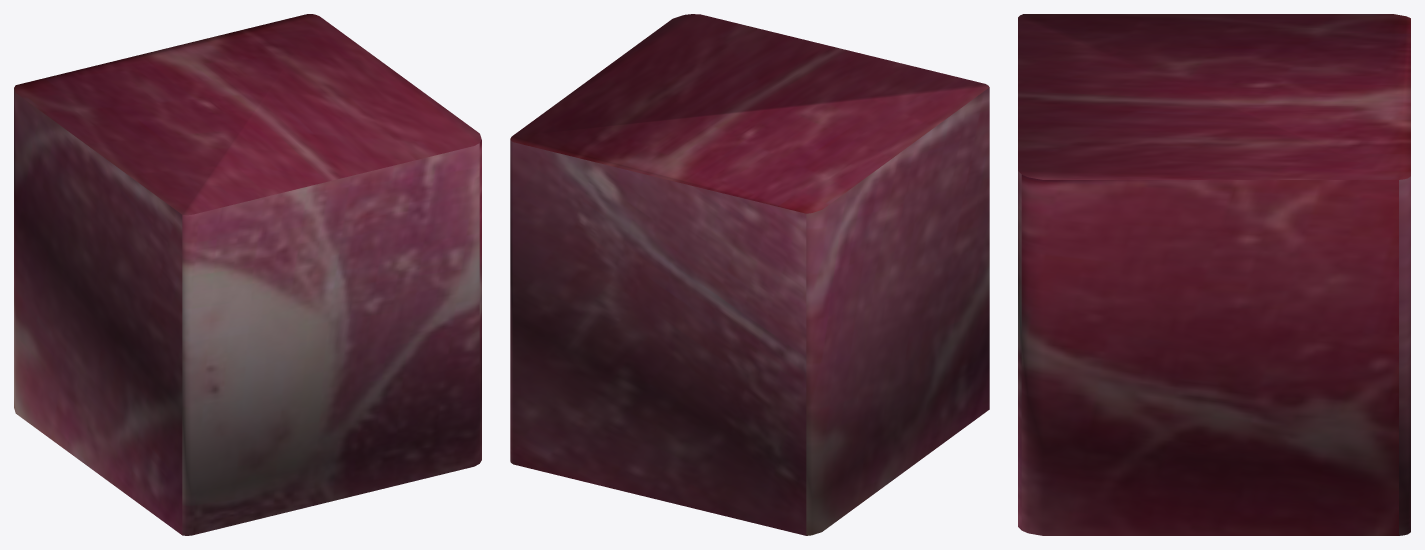
Rendered from muttonCube.fbx.
The picture shows the model from 3 angles, left to right: view 1: azimuth 30°, elevation 25°; view 2: azimuth 150°, elevation 25°; view 3: azimuth 270°, elevation 25°; orthographic projection. The views are drawn at different scales.
Parts seen in each view (by area): view 1: muttoncube; view 2: muttoncube; view 3: muttoncube.
Part boxes in pixels (left/top/right/bottom): muttoncube: left=14, top=14, right=481, bottom=535; muttoncube: left=510, top=14, right=989, bottom=535; muttoncube: left=1018, top=14, right=1410, bottom=535.
Bounding box in the file's own units: 200 × 200 × 200.
Materials: 1 (1 with a texture image).
